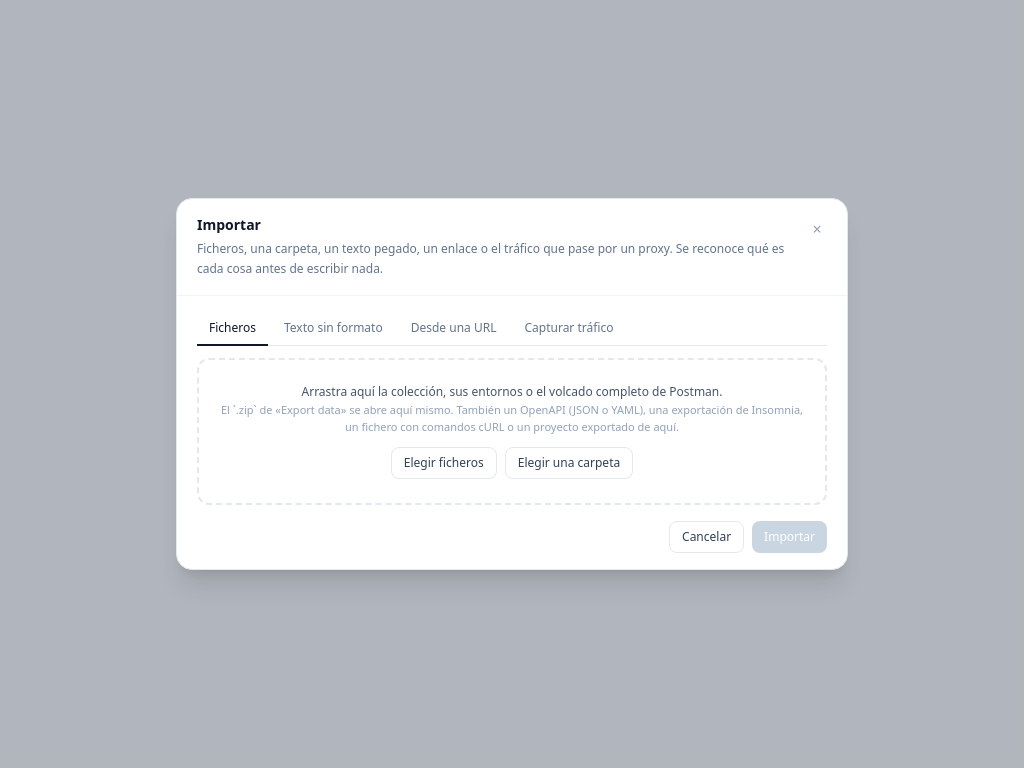
Test: descifrar HTTPS › el certificado de la CA se descarga como fichero y enseña su huella
Click the button "Capturar tráfico": [569, 329] box left=512, top=312, right=626, bottom=346
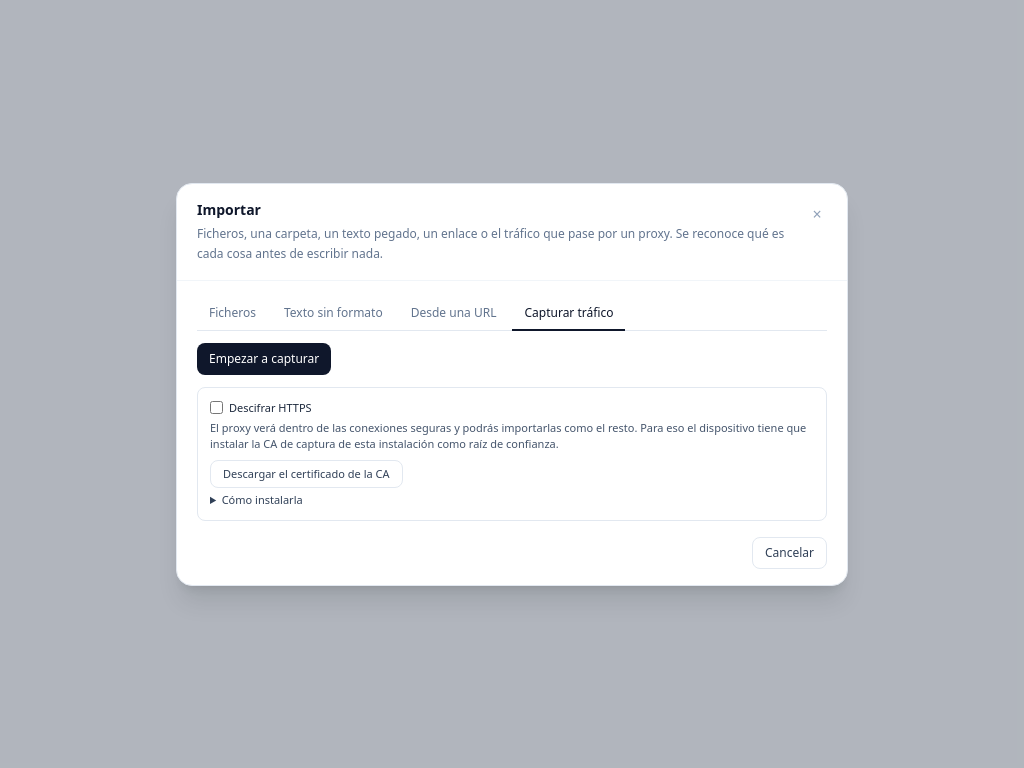
Click the button "Descargar el certificado de la CA": [306, 474] box left=210, top=460, right=402, bottom=488
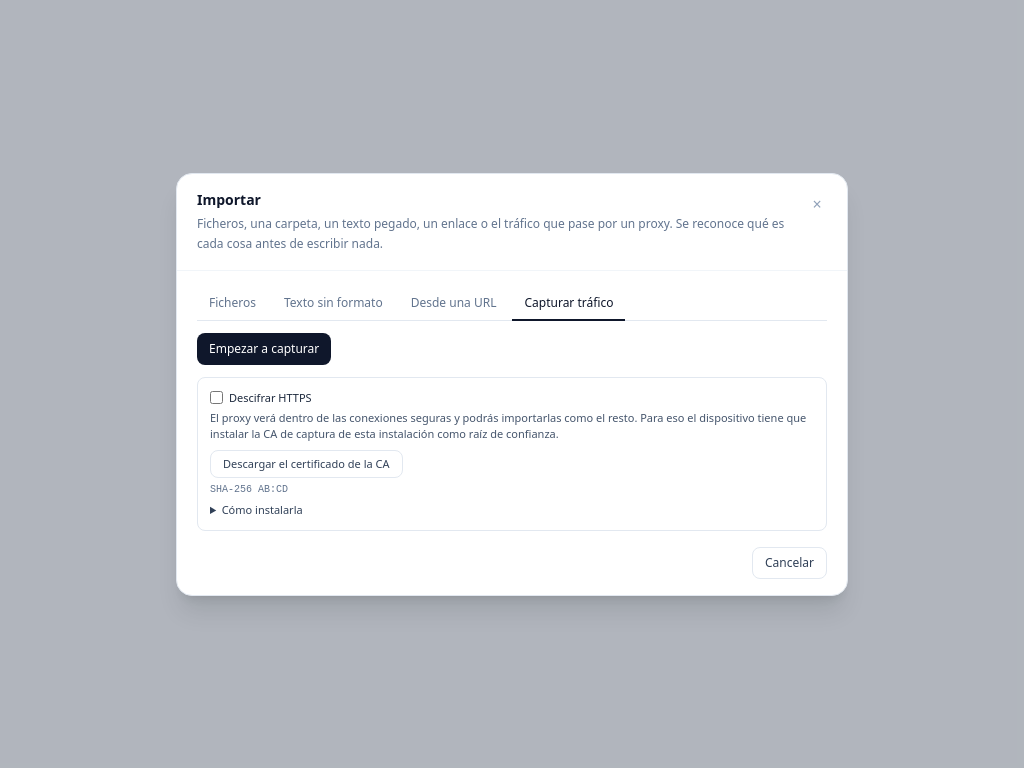
Expected: the text with test id "ca-fingerprint" reads "SHA-256 AB:CD", left=210, top=484, right=288, bottom=494
